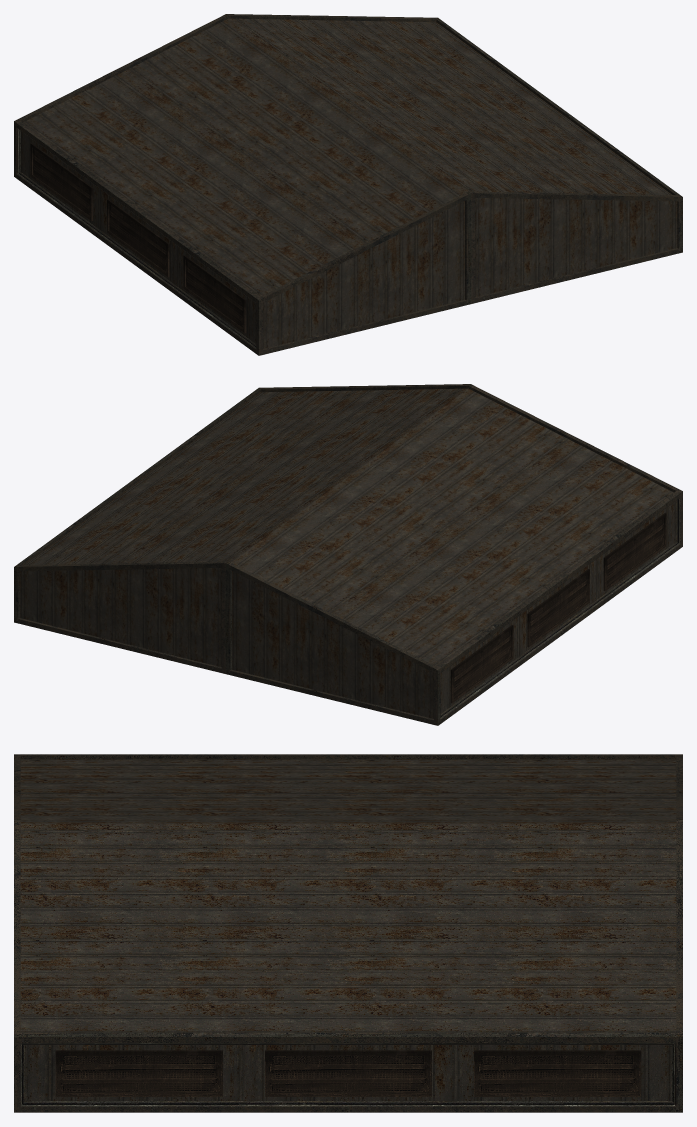
The model's file is roof_mh_4_b_2.glb.
3 renders of one model, top to bottom at view 1: azimuth 30°, elevation 25°; view 2: azimuth 150°, elevation 25°; view 3: azimuth 270°, elevation 25°, orthographic. The views are drawn at different scales.
Parts seen in each view (by area): view 1: roof_mh_4_b_2; view 2: roof_mh_4_b_2; view 3: roof_mh_4_b_2.
Part boxes in pixels (left/top/right/bottom): roof_mh_4_b_2: left=14, top=14, right=682, bottom=355; roof_mh_4_b_2: left=14, top=384, right=682, bottom=725; roof_mh_4_b_2: left=14, top=754, right=682, bottom=1112.
Bounding box in the file's own units: 8 × 2 × 8.
6 materials, 6 textured.
